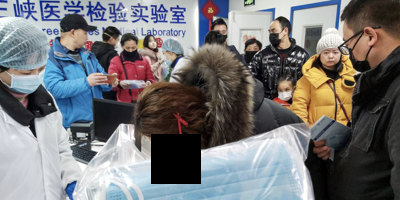with_mask: (8, 62, 47, 95), (342, 33, 374, 73), (268, 26, 285, 45), (277, 85, 294, 102), (245, 45, 260, 60), (123, 45, 138, 59), (214, 29, 228, 43), (162, 50, 174, 65), (113, 37, 121, 50)
without_mask: (320, 49, 342, 67), (75, 30, 89, 48), (149, 39, 158, 50)
